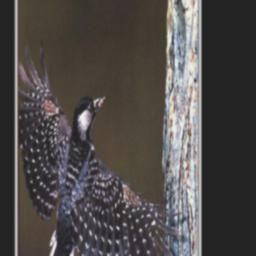Woodpecker: (18, 47, 182, 256)
